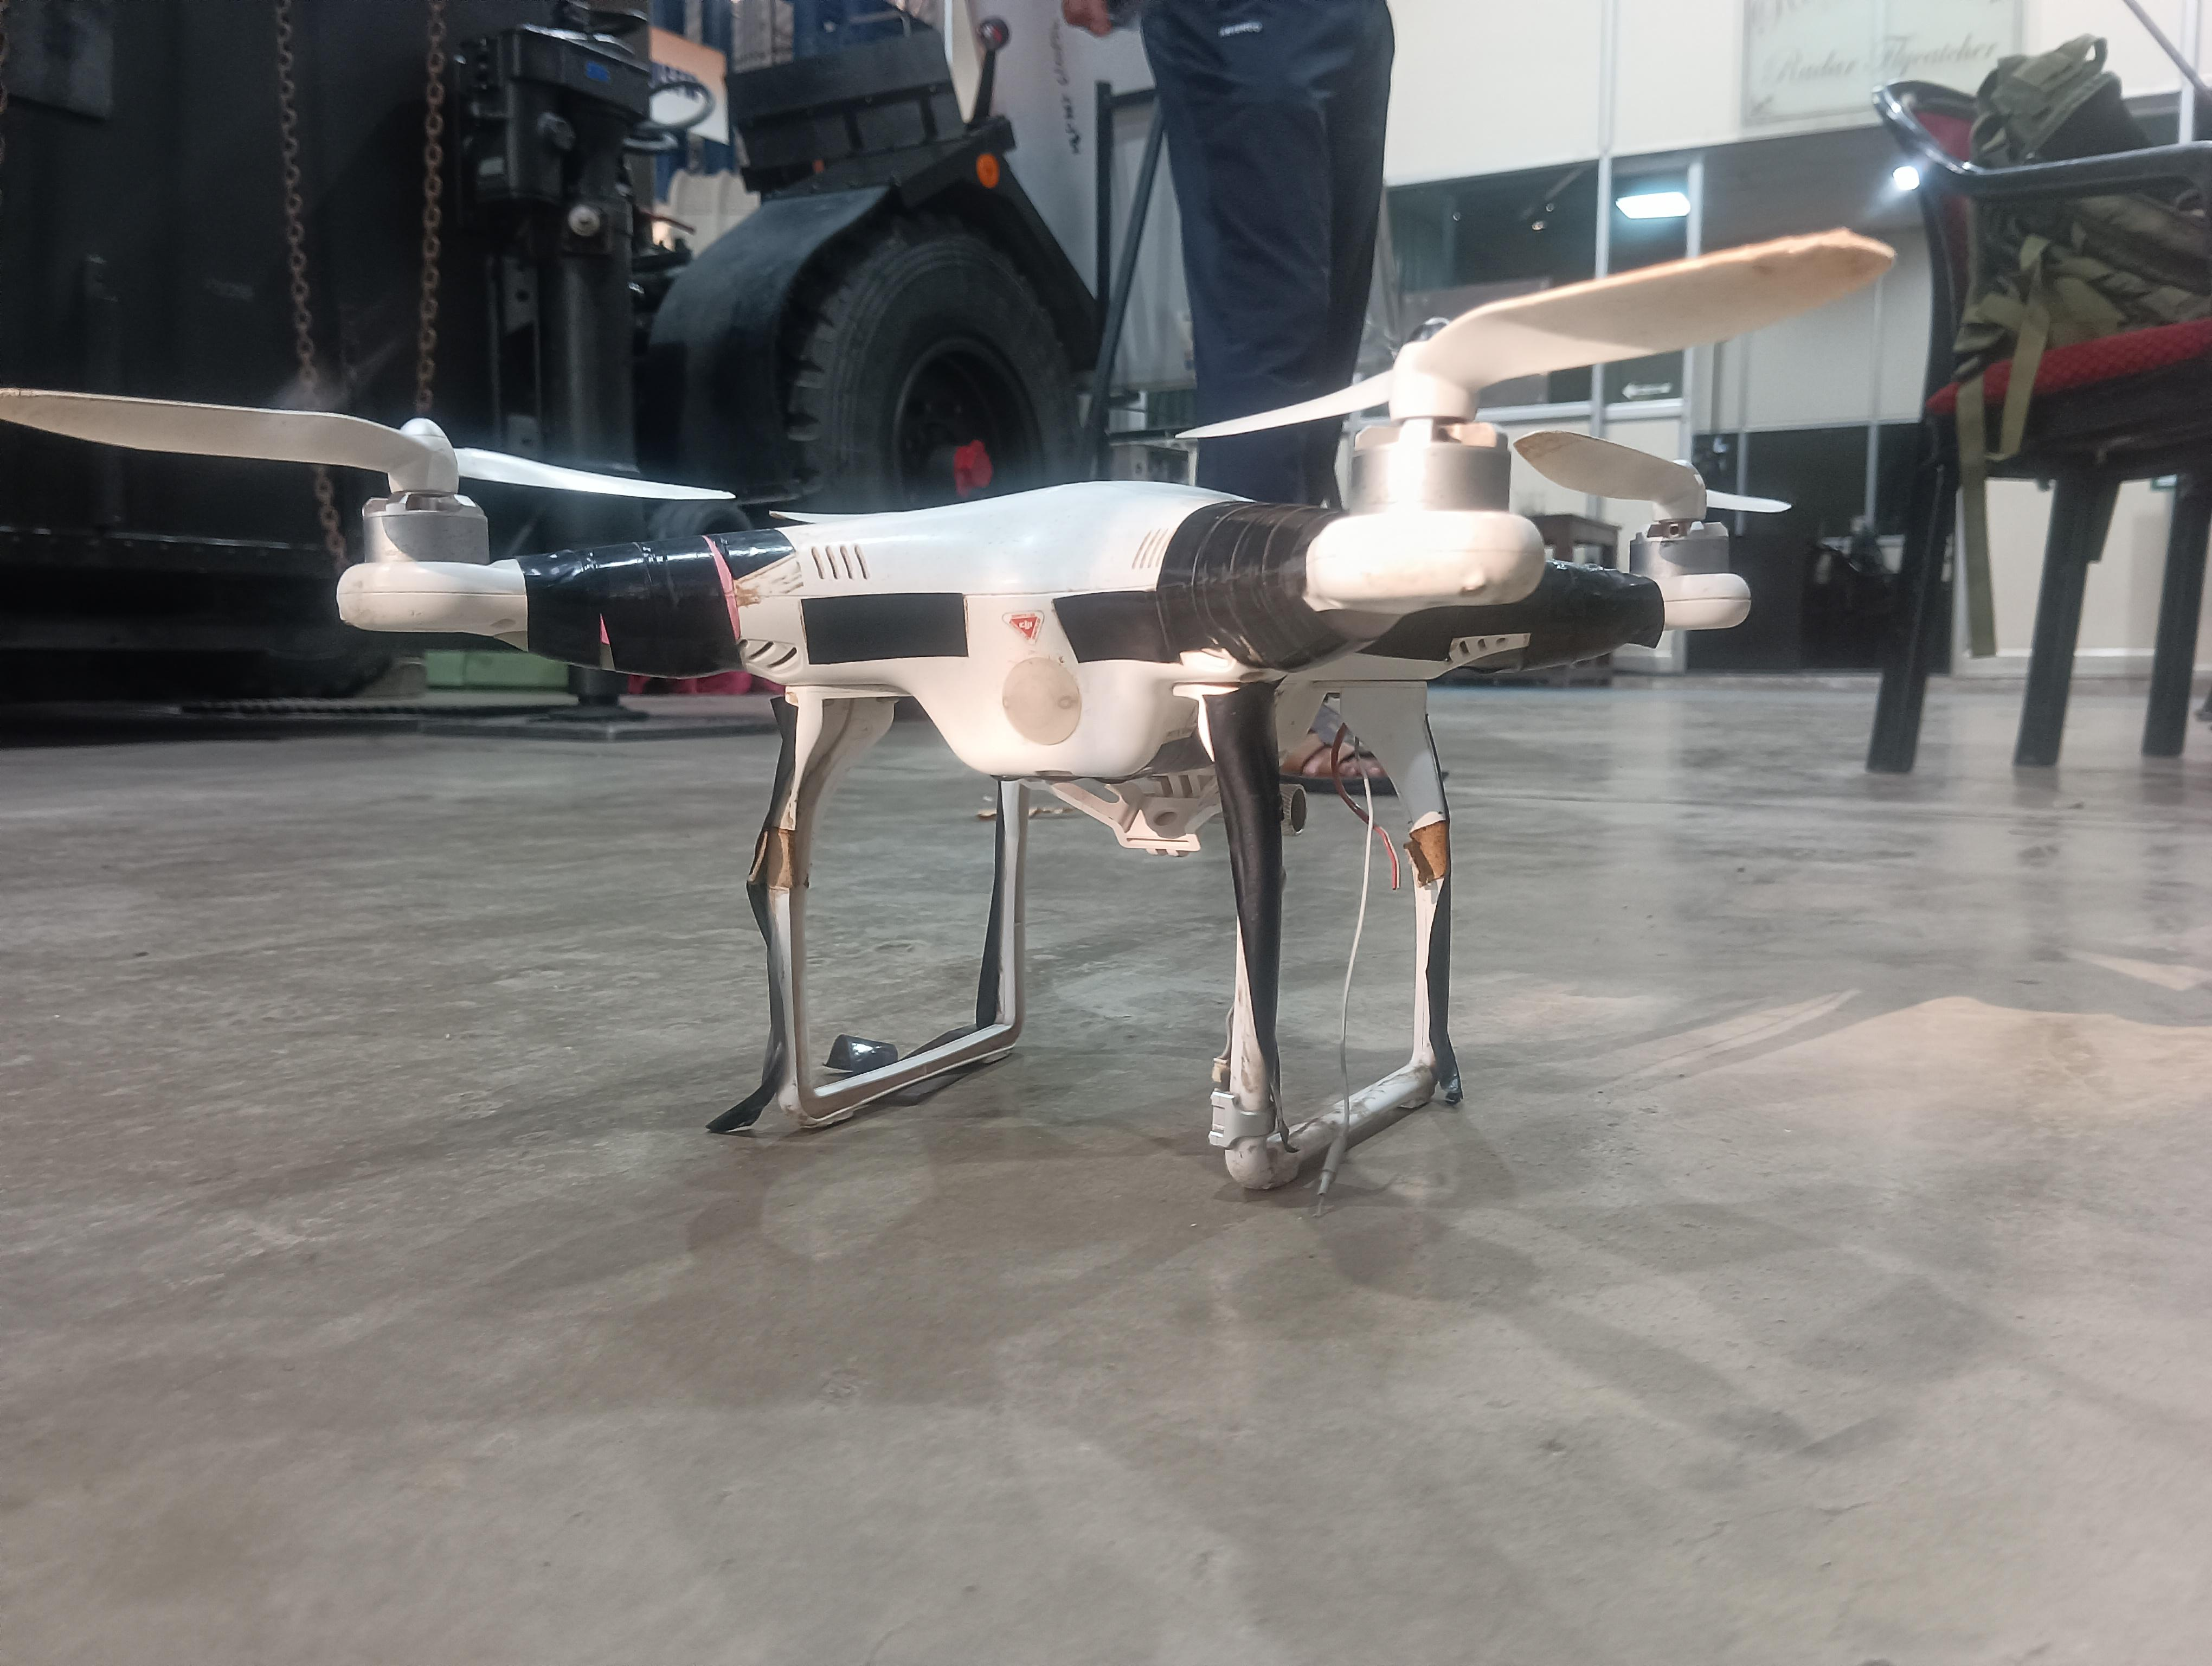drone: (0, 229, 1967, 1267)
